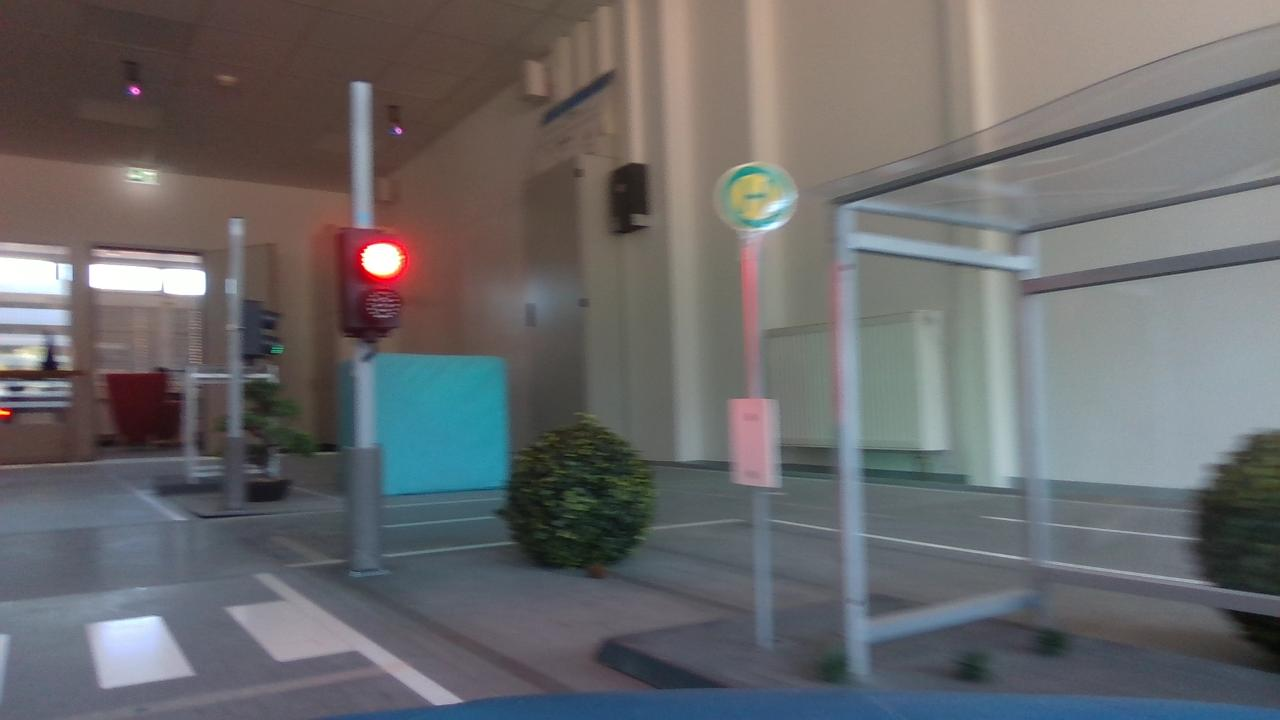traffic_light_red: (295, 215, 428, 360)
